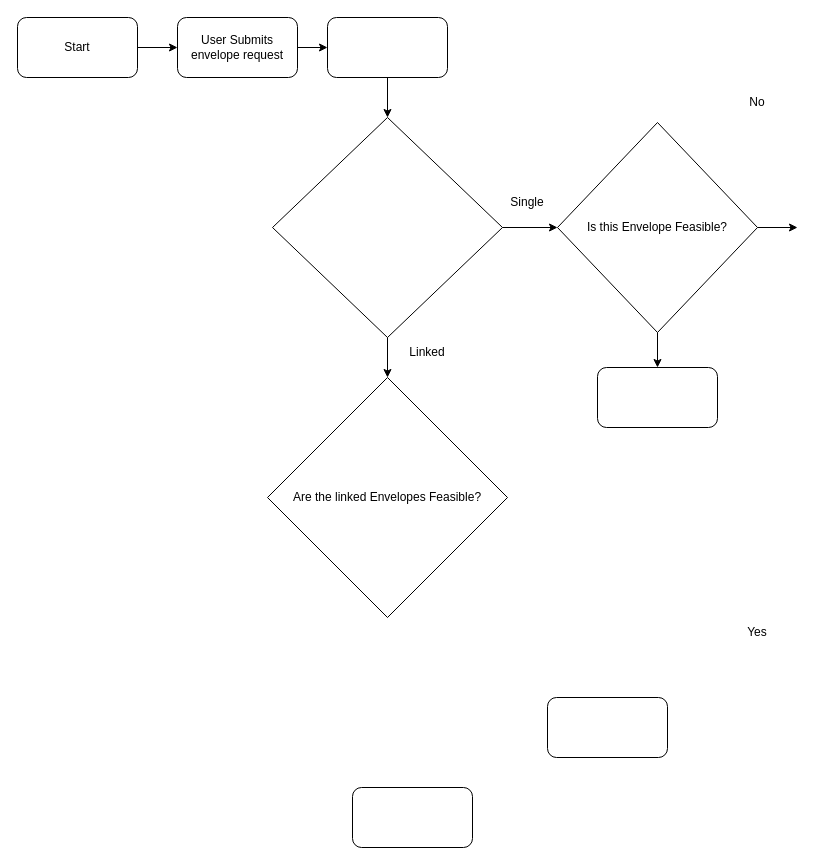
Image size: 823x865. Some labels were removed from this diagram. Each missing label, with the centre of its shape:
"Backend receives envelope request" belongs at [387,47].
"Single or Linked Envelopes?" belongs at [387,227].
